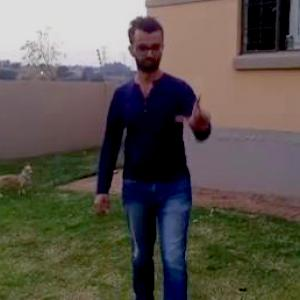land_hand: (172, 89, 219, 138)
